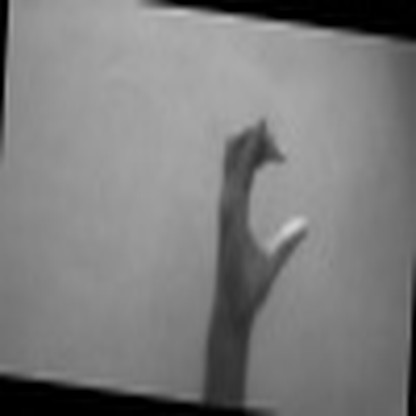c: (207, 107, 314, 310)
